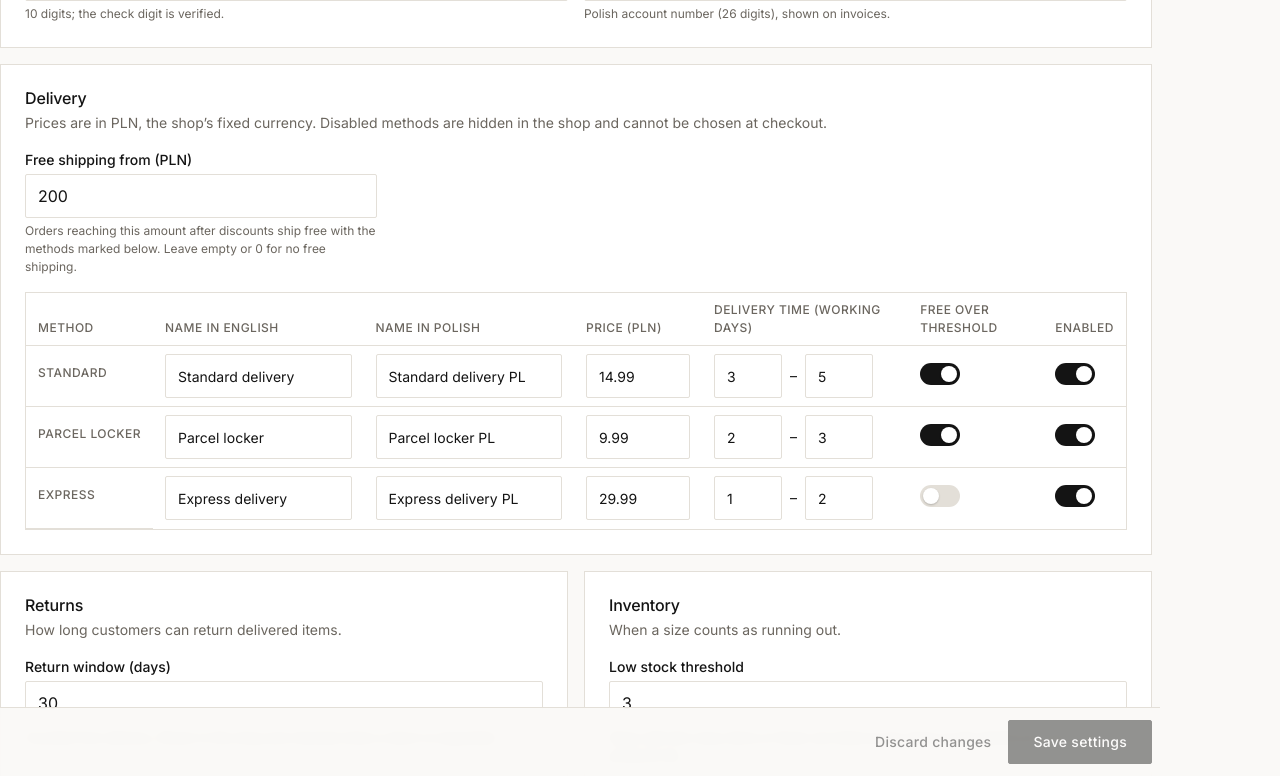
Scenario: Settings page › shows server validation errors next to their fields
(page scrolled)
Replace the text in the number field named "Standard: at most (days)" with "1" at (839, 376), box [805,354,873,398]
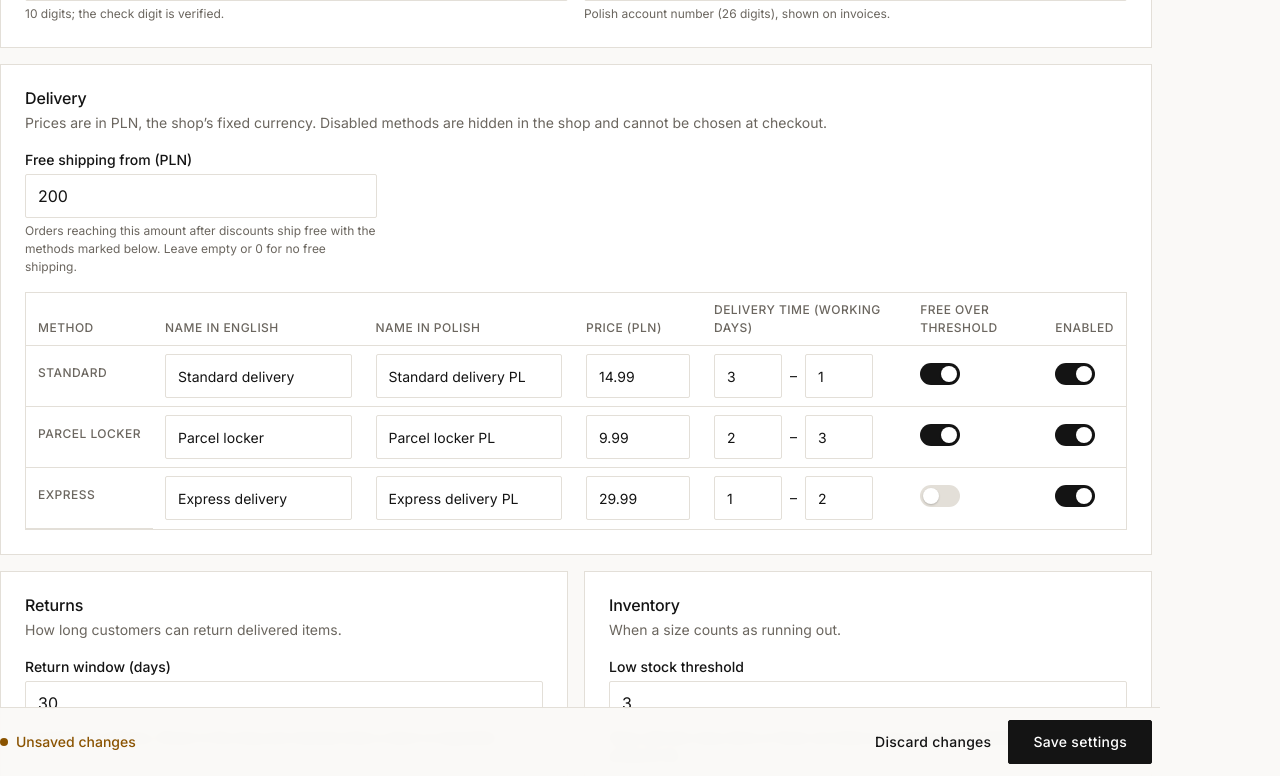
Click the button "Save settings" at (1080, 742), box [1008,720,1152,764]
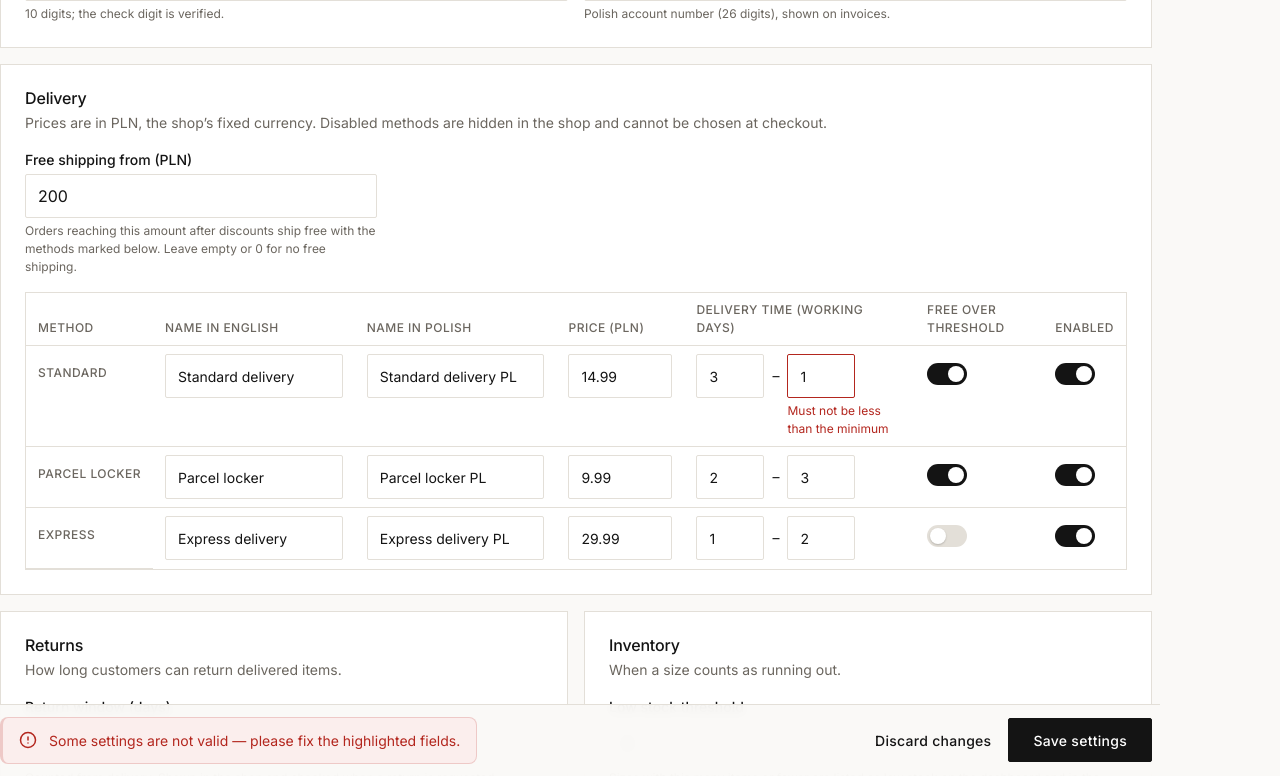
expect the message shows "fix the highlighted fields": met, box [49,732,460,749]
expect the text "Must not be less than the minimum" is shown: met, box [788,402,903,438]
